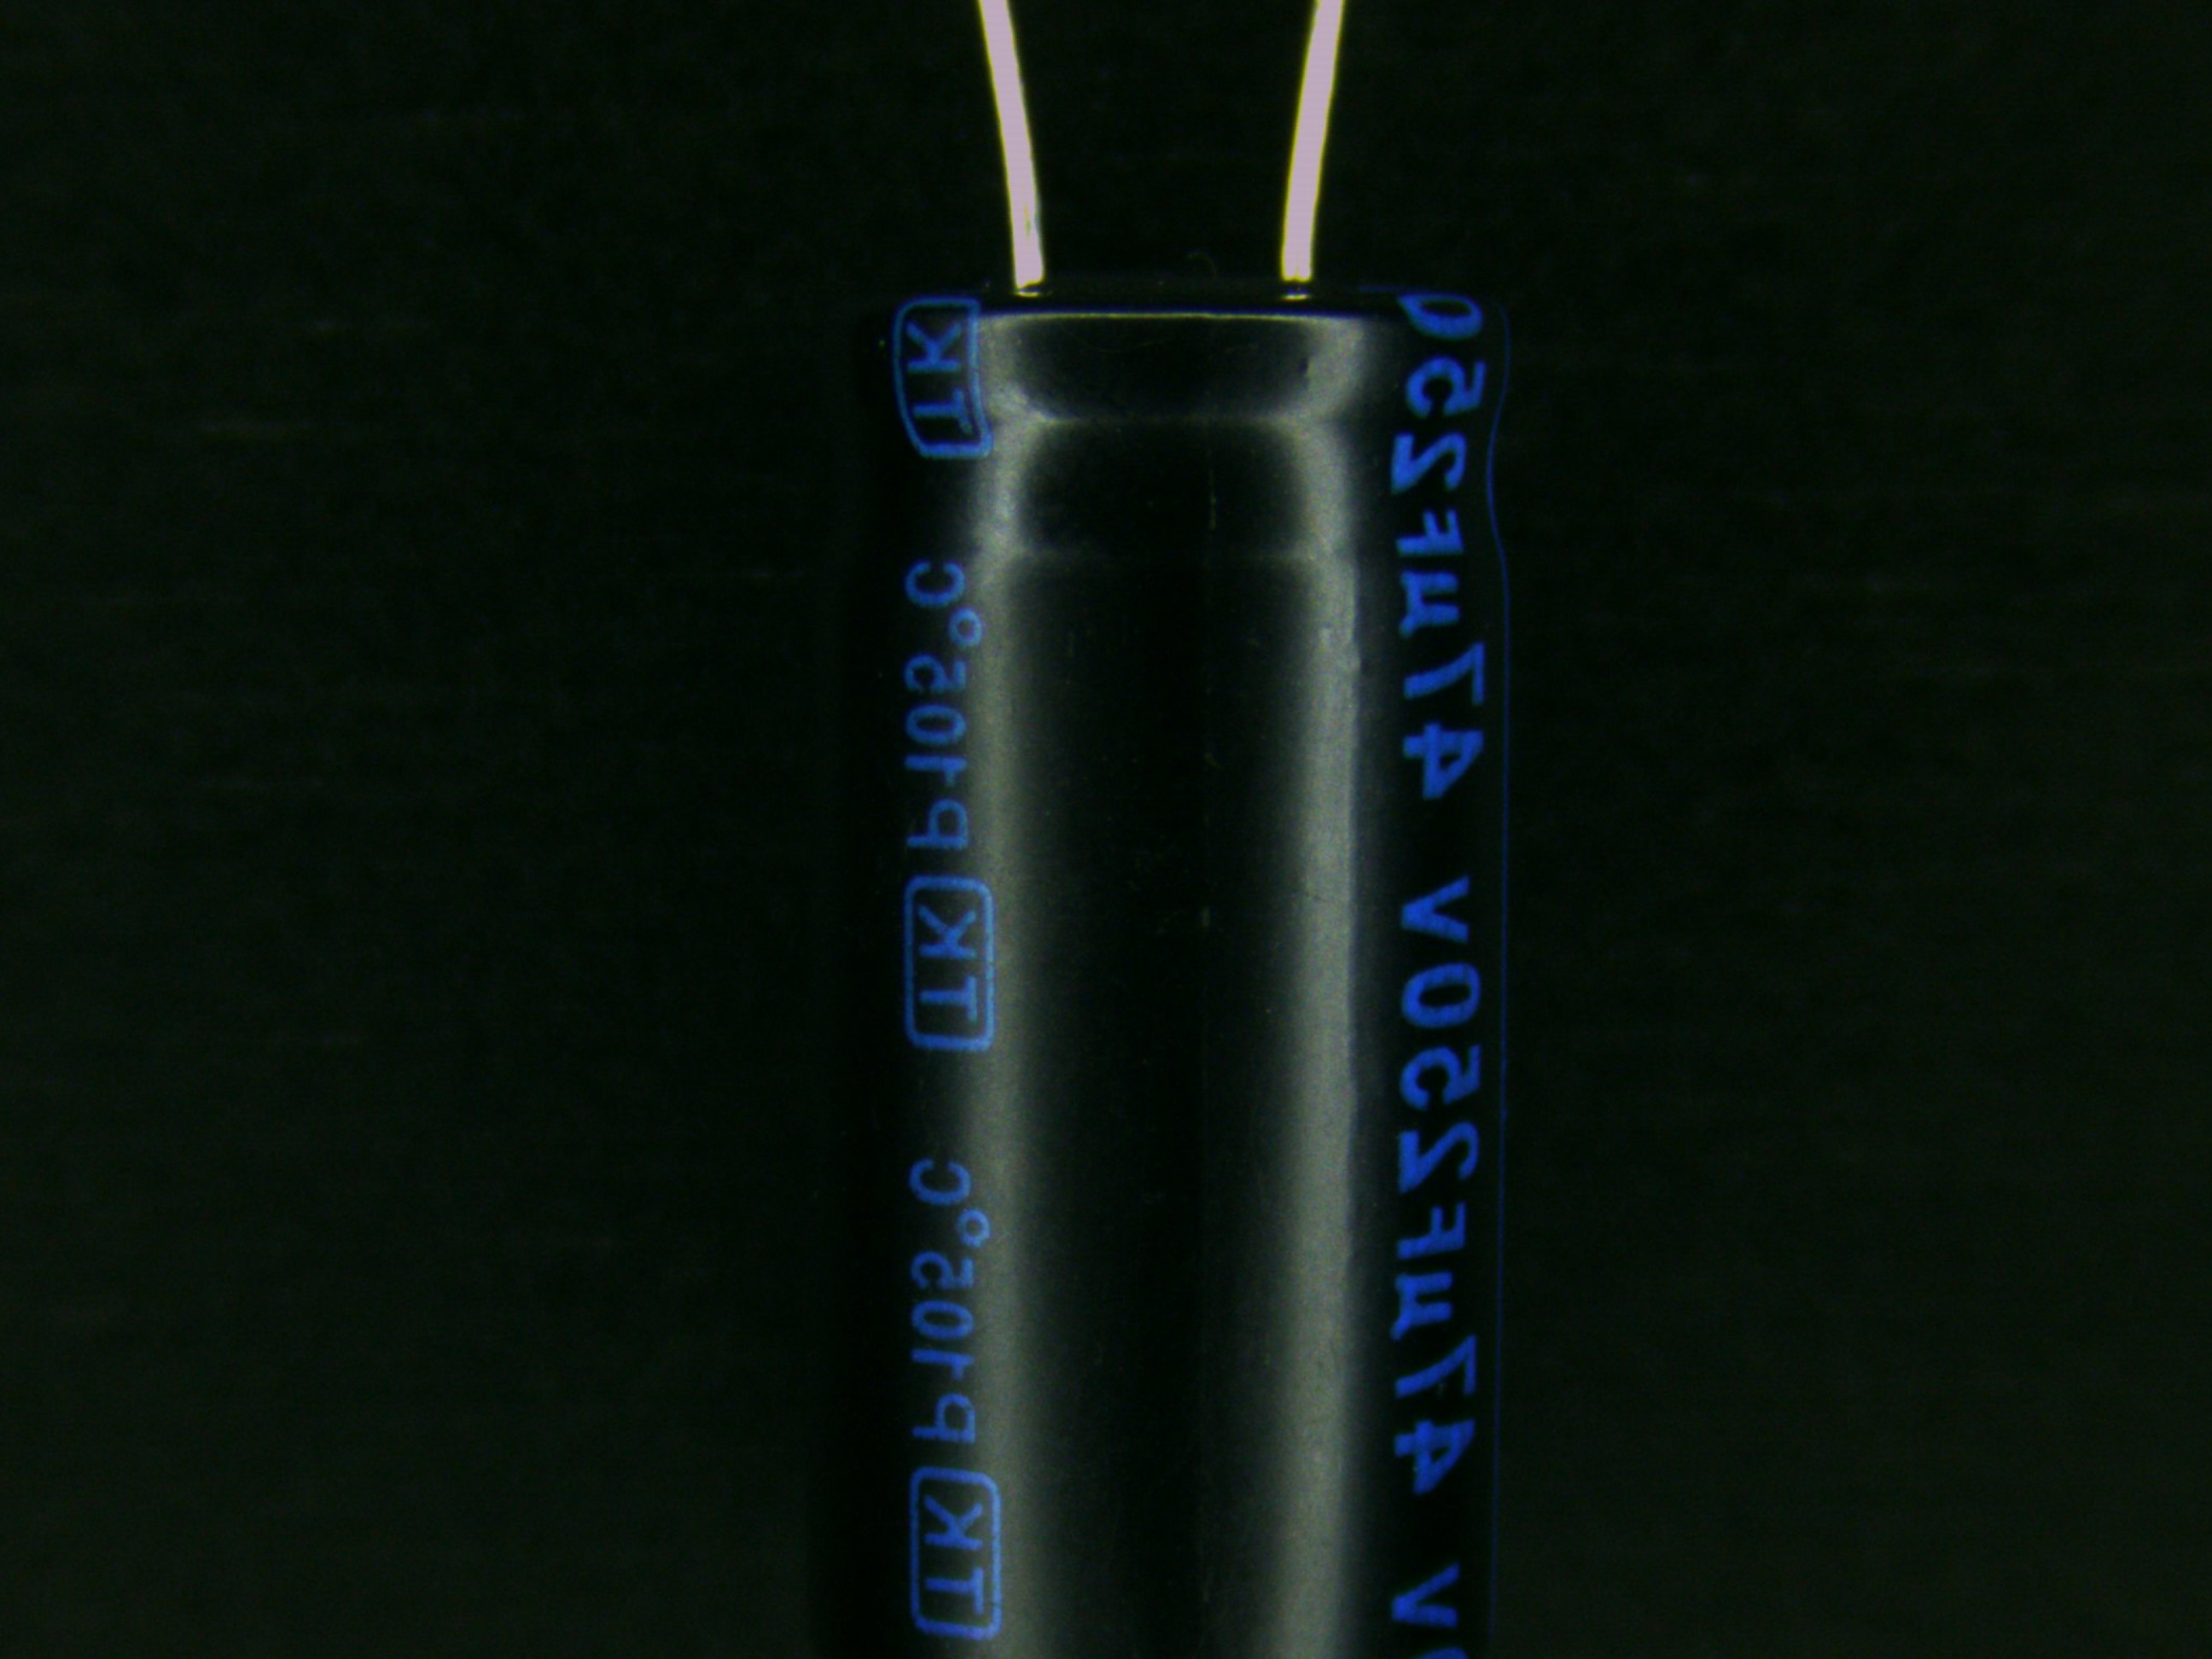c2: (805, 131, 1517, 1659)
